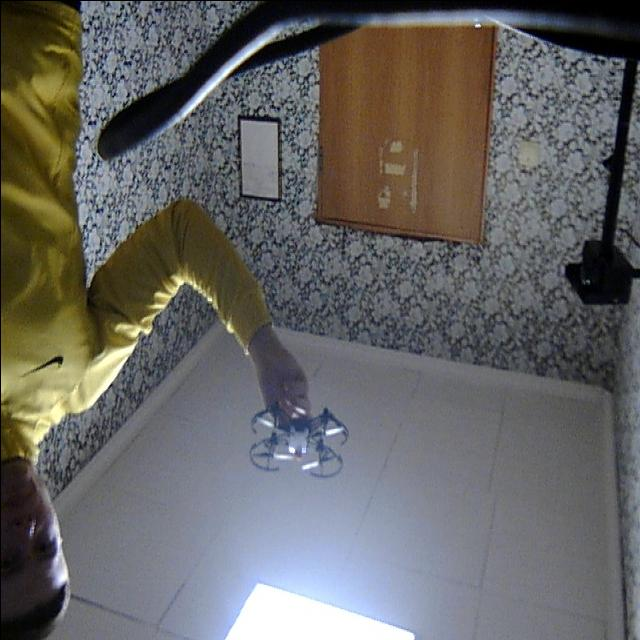drone: (232, 398, 359, 492)
